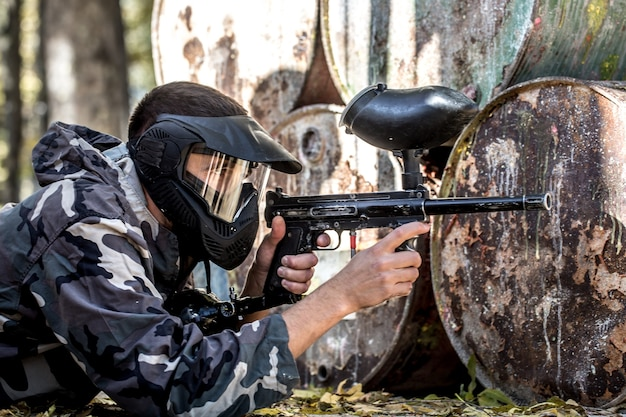gun: (264, 80, 552, 297)
